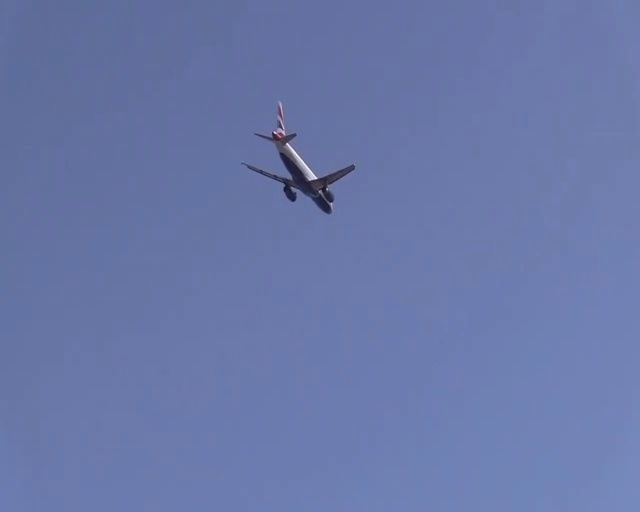AIRPLANE: (240, 100, 355, 215)
